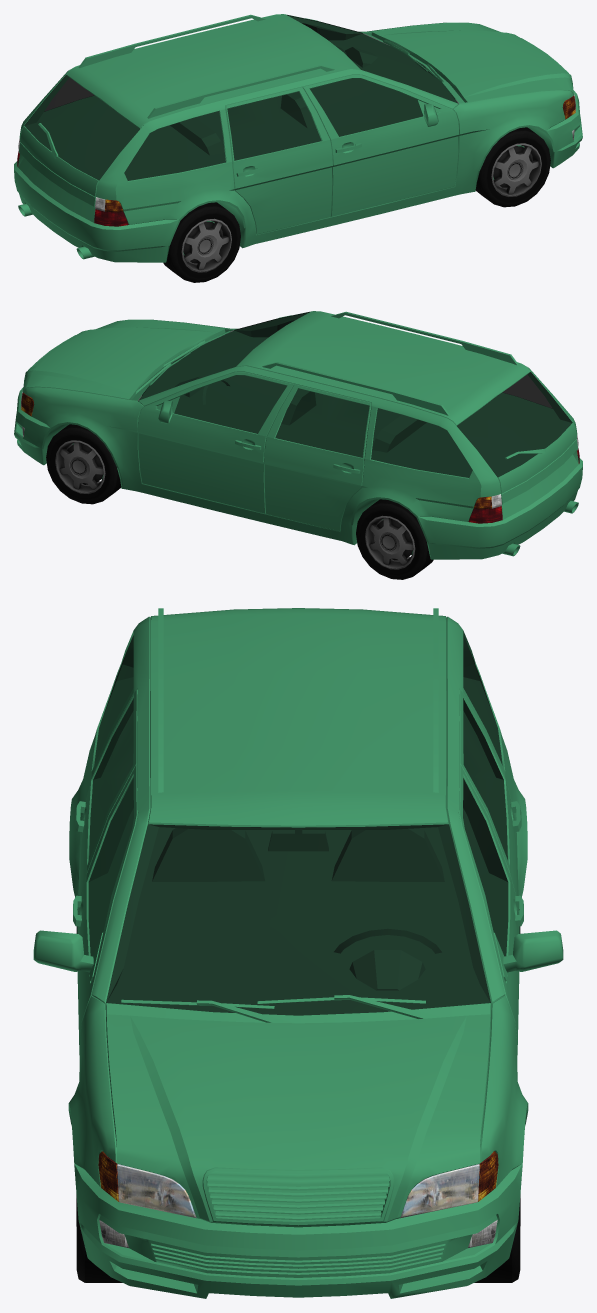
The model's file is traffic_wagon.glb.
3 renders of one model, top to bottom at view 1: azimuth 30°, elevation 25°; view 2: azimuth 150°, elevation 25°; view 3: azimuth 270°, elevation 25°, orthographic. The views are drawn at different scales.
Parts seen in each view (by area): view 1: wagon_c_body, wagon_c_glass, wagon_c_wheel_2, wagon_c_wheel_0, wagon_c_optics; view 2: wagon_c_body, wagon_c_glass, wagon_c_wheel_3, wagon_c_wheel_1, wagon_c_optics; view 3: wagon_c_body, wagon_c_glass, wagon_c_optics, wagon_c_wheel_0, wagon_c_wheel_1.
Boxes of the visible parts, x1,y1,x2,y2 form: wagon_c_body: [14, 14, 582, 262]; wagon_c_glass: [24, 15, 458, 180]; wagon_c_wheel_2: [163, 202, 240, 282]; wagon_c_wheel_0: [475, 127, 550, 207]; wagon_c_optics: [17, 94, 575, 226]; wagon_c_body: [14, 311, 582, 559]; wagon_c_glass: [138, 312, 572, 477]; wagon_c_wheel_3: [356, 499, 433, 579]; wagon_c_wheel_1: [46, 424, 121, 504]; wagon_c_optics: [21, 391, 579, 523]; wagon_c_body: [33, 608, 563, 1298]; wagon_c_glass: [88, 635, 508, 1015]; wagon_c_optics: [98, 1151, 498, 1247]; wagon_c_wheel_0: [76, 1194, 122, 1282]; wagon_c_wheel_1: [474, 1194, 520, 1282].
Bounding box in the file's own units: 4.38 × 1.38 × 1.95.
Materials: 7 (5 with a texture image).
